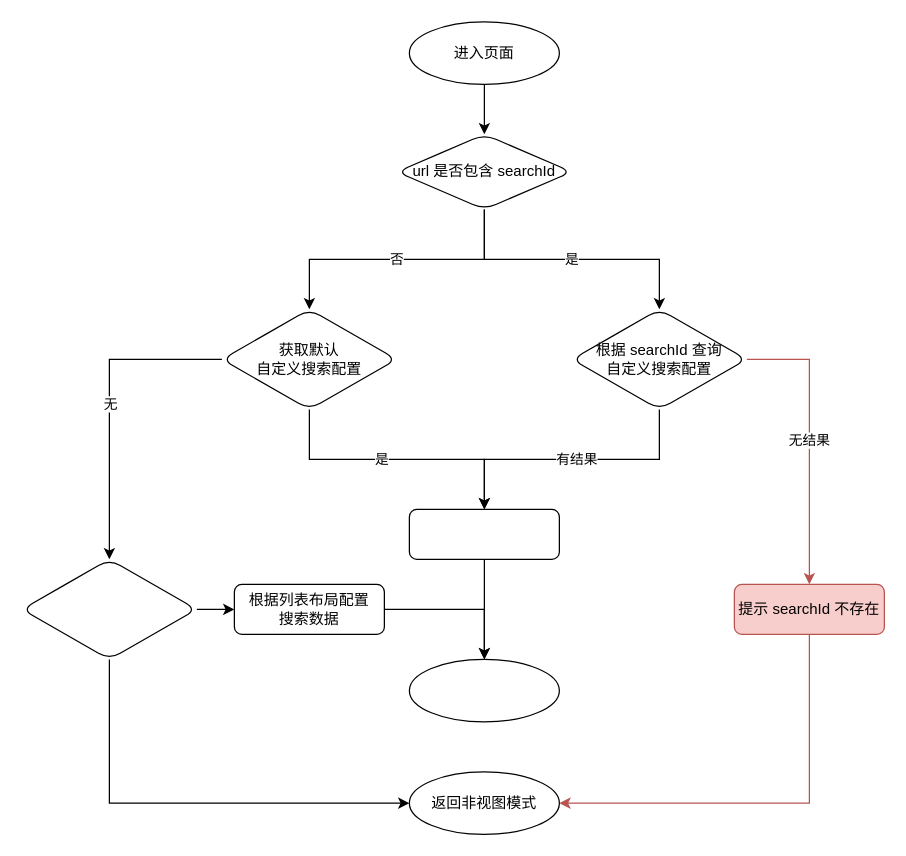
Some shapes in this 906 by 856 pixel diagram are drawn without their labels. The centre of each missing label's shape, as x and y in pixels:
"根据自定义搜索配置 搜索数据" belongs at point 483,533.
"获取默认 列表布局" belongs at point 109,608.
"进入视图模式" belongs at point 483,690.
